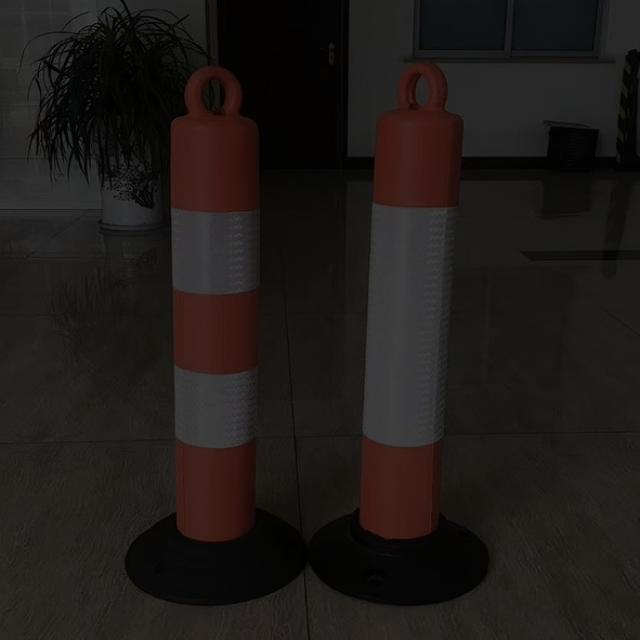obstacle: (354, 58, 472, 540), (164, 62, 268, 546)
